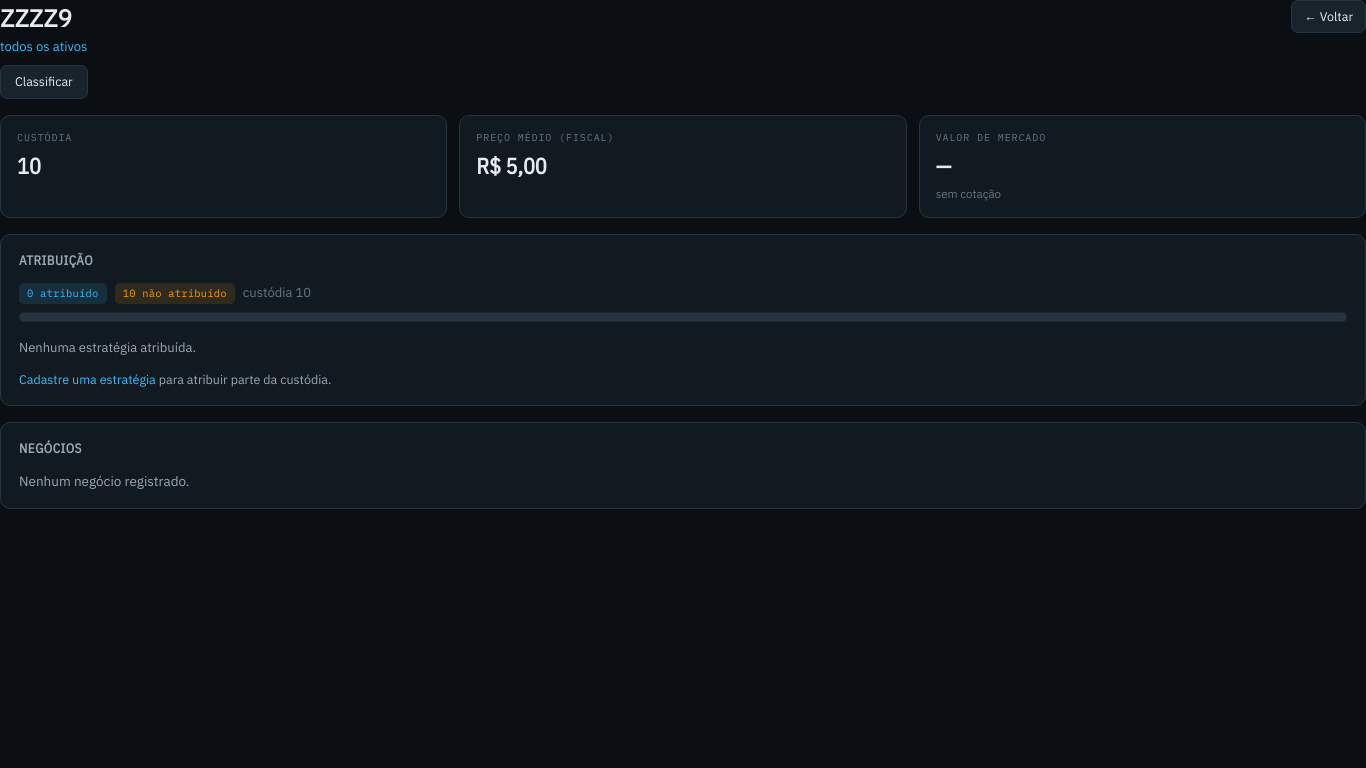
Scenario: the Ativos detail classification › offers classify only for an unclassified ticker and sends the picked class
Click the button "Classificar".
click(44, 82)  # box [0, 65, 88, 99]
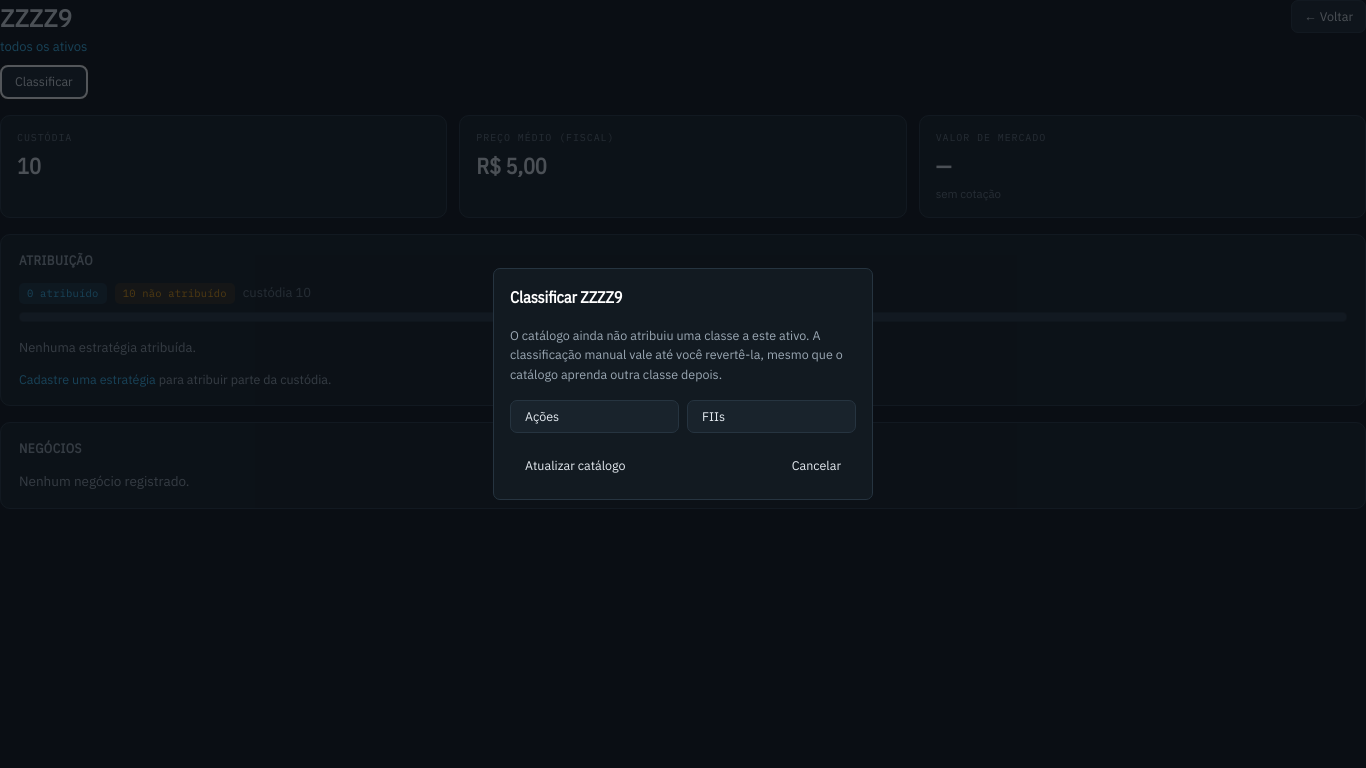
Click the button "Ações".
click(594, 417)  # box [510, 400, 679, 434]
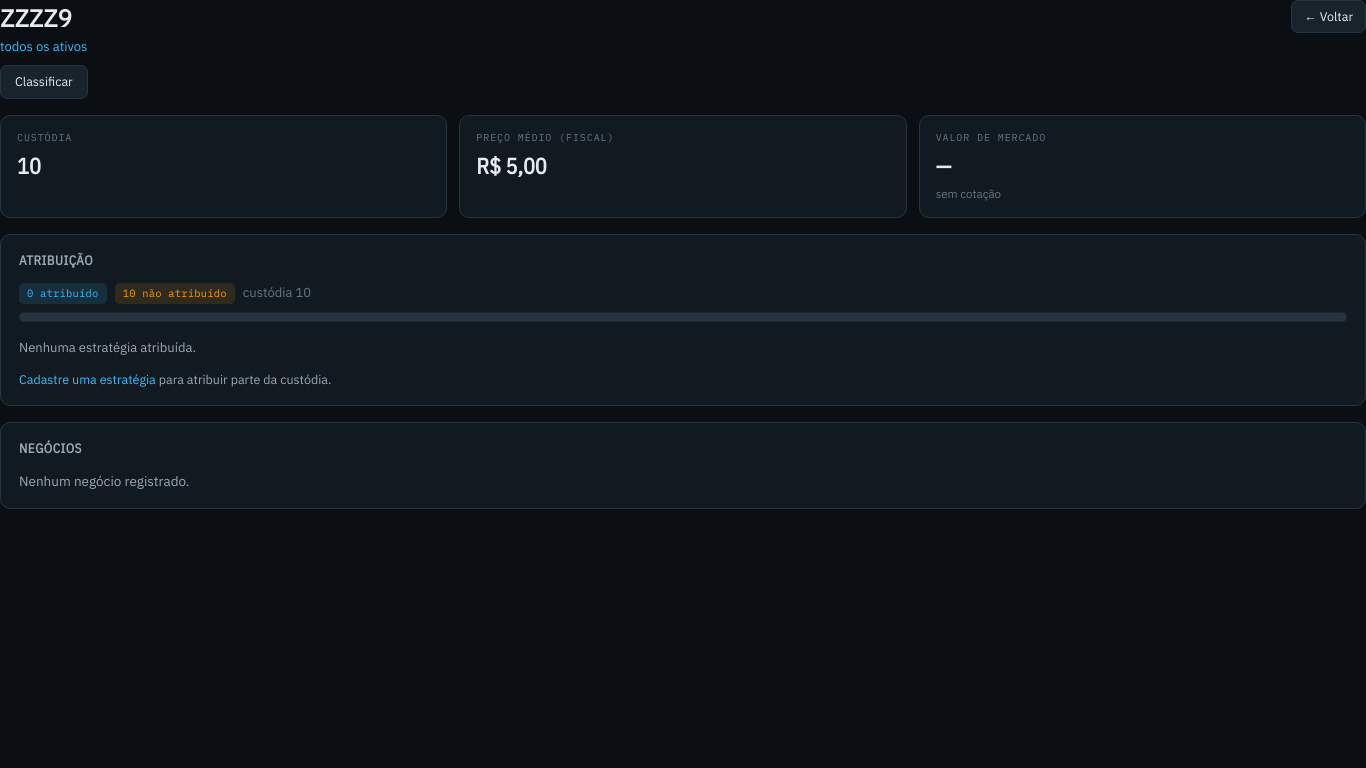
Result: the dialog is gone
